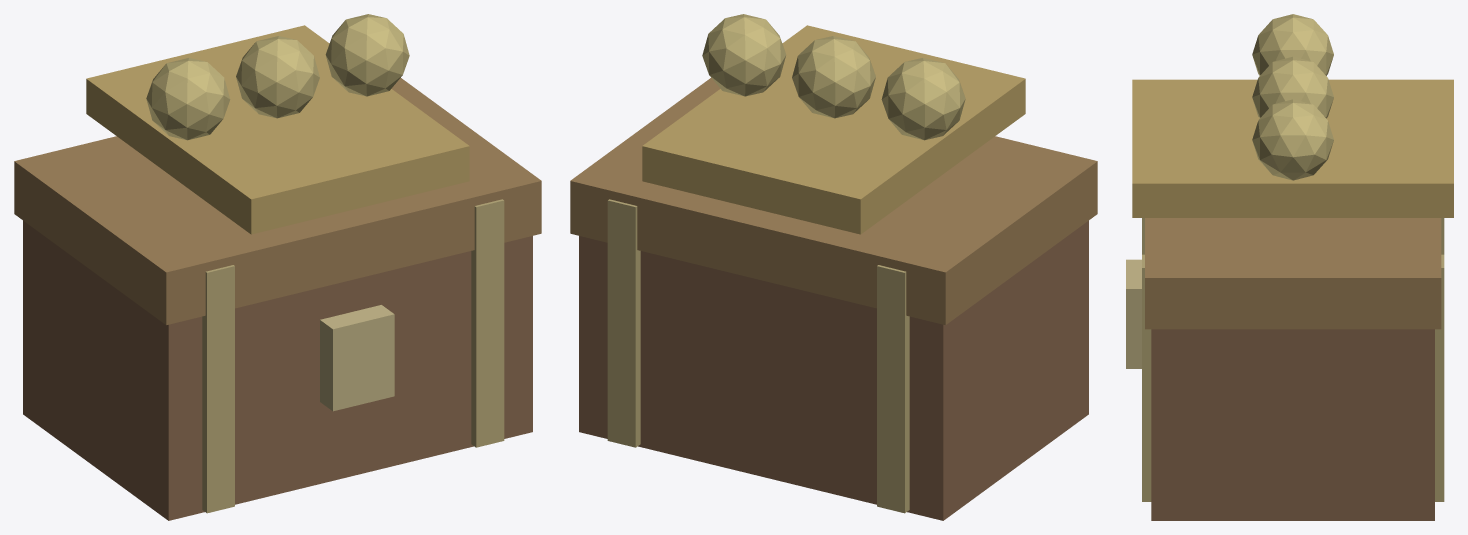
File: loot_admiral_vault.glb
The picture shows the model from 3 angles, left to right: view 1: azimuth 30°, elevation 25°; view 2: azimuth 150°, elevation 25°; view 3: azimuth 270°, elevation 25°; orthographic projection. The views are drawn at different scales.
Visible parts, largest first — view 1: ChestBody, ChestLid, CrownDeck, Band_1, Band_0, Lock, VaultSeal_0, VaultSeal_1, VaultSeal_2; view 2: ChestBody, ChestLid, CrownDeck, Band_1, Band_0, VaultSeal_0, VaultSeal_1, VaultSeal_2; view 3: ChestBody, CrownDeck, ChestLid, VaultSeal_2, Band_1, VaultSeal_1, VaultSeal_0, Lock.
Part boxes in pixels (x1=…): ChestBody: x1=23, y1=220, x2=532, y2=520; ChestLid: x1=14, y1=78, x2=541, y2=325; CrownDeck: x1=86, y1=25, x2=469, y2=234; Band_1: x1=471, y1=199, x2=504, y2=447; Band_0: x1=202, y1=265, x2=234, y2=513; Lock: x1=320, y1=305, x2=394, y2=411; VaultSeal_0: x1=146, y1=58, x2=230, y2=140; VaultSeal_1: x1=236, y1=36, x2=319, y2=118; VaultSeal_2: x1=325, y1=14, x2=409, y2=96; ChestBody: x1=579, y1=220, x2=1088, y2=520; ChestLid: x1=570, y1=78, x2=1097, y2=325; CrownDeck: x1=642, y1=25, x2=1025, y2=234; Band_1: x1=607, y1=199, x2=640, y2=447; Band_0: x1=877, y1=265, x2=909, y2=513; VaultSeal_0: x1=881, y1=58, x2=965, y2=140; VaultSeal_1: x1=792, y1=36, x2=875, y2=118; VaultSeal_2: x1=702, y1=14, x2=786, y2=96; ChestBody: x1=1151, y1=329, x2=1434, y2=520; CrownDeck: x1=1132, y1=79, x2=1453, y2=217; ChestLid: x1=1145, y1=218, x2=1441, y2=329; VaultSeal_2: x1=1252, y1=99, x2=1333, y2=180; Band_1: x1=1142, y1=254, x2=1444, y2=501; VaultSeal_1: x1=1252, y1=56, x2=1333, y2=118; VaultSeal_0: x1=1252, y1=14, x2=1333, y2=75; Lock: x1=1126, y1=259, x2=1141, y2=368.
Bounding box in the file's own units: 1.34 × 1.31 × 1.04.
